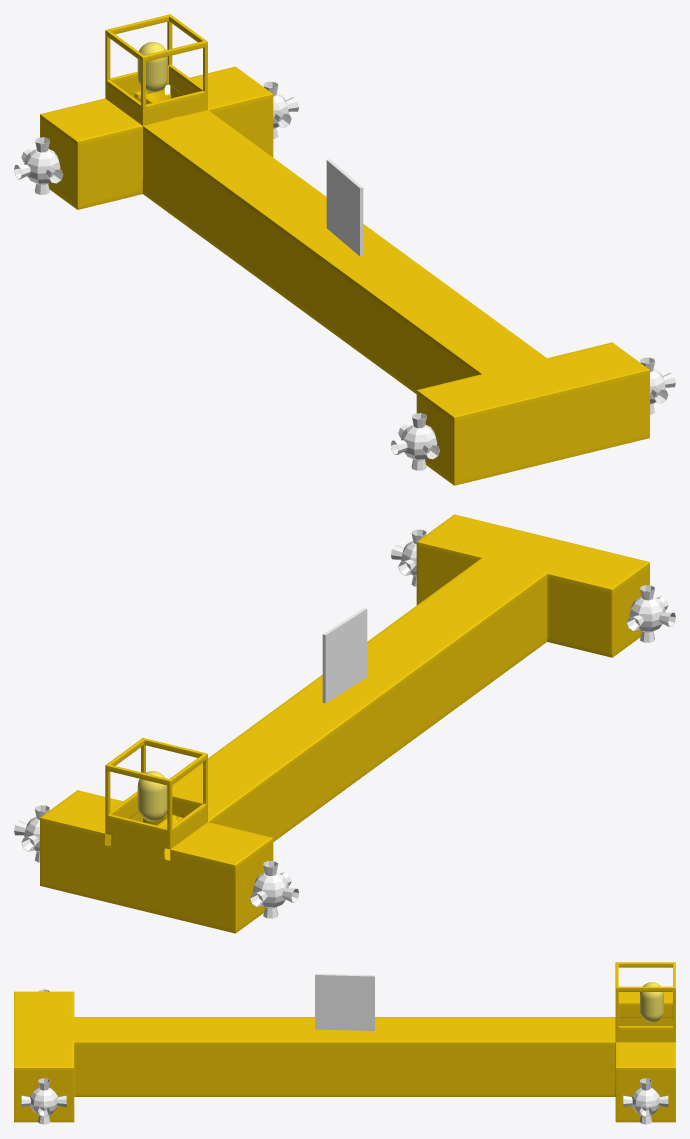
File: trader-1.glb
The picture shows the model from 3 angles, top to bottom: view 1: azimuth 30°, elevation 25°; view 2: azimuth 150°, elevation 25°; view 3: azimuth 270°, elevation 25°; orthographic projection. The views are drawn at different scales.
Parts seen in each view (by area): view 1: body_top, radar, minion_body, xxx.001, xxx.003; view 2: body_top, radar, minion_body, xxx.001, xxx.003; view 3: body_top, radar, minion_body, xxx, xxx.002.
Boxes of the visible parts, <box> form: body_top: <box>40,14,649,485</box>; radar: <box>326,159,363,256</box>; minion_body: <box>137,42,167,92</box>; xxx.001: <box>24,149,60,184</box>; xxx.003: <box>401,424,437,460</box>; body_top: <box>40,514,649,933</box>; radar: <box>322,608,367,703</box>; minion_body: <box>137,771,167,821</box>; xxx.001: <box>252,872,288,908</box>; xxx.003: <box>629,596,665,632</box>; body_top: <box>14,962,675,1122</box>; radar: <box>315,973,374,1030</box>; minion_body: <box>640,982,663,1022</box>; xxx: <box>632,1087,659,1115</box>; xxx.002: <box>30,1087,57,1115</box>.
Size of the model in its own units: 4.25 by 2 by 11.
